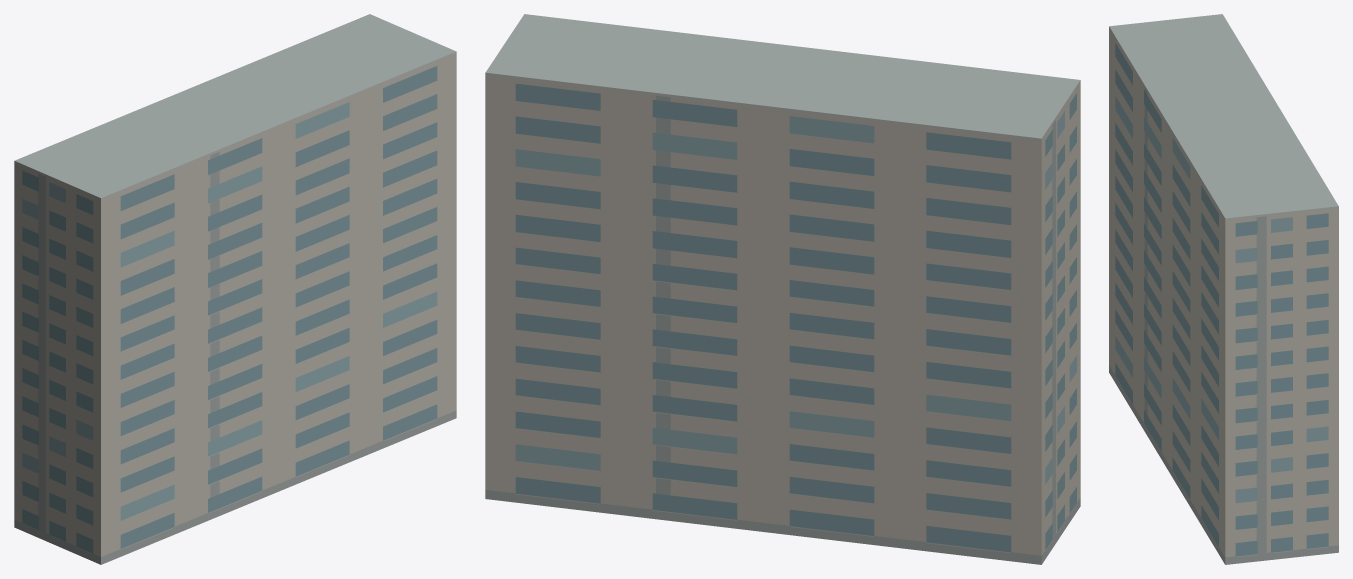
File: residential-5f1e0d6c-2528-493a-9b03-50a418fb24a7.glb
The picture shows the model from 3 angles, left to right: view 1: azimuth 30°, elevation 25°; view 2: azimuth 150°, elevation 25°; view 3: azimuth 270°, elevation 25°; orthographic projection. The views are drawn at different scales.
Visible parts, largest first — view 1: residential-5f1e0d6c-2528-493a-9b03-50a418fb24a7.tmp; view 2: residential-5f1e0d6c-2528-493a-9b03-50a418fb24a7.tmp; view 3: residential-5f1e0d6c-2528-493a-9b03-50a418fb24a7.tmp.
Part boxes in pixels (<box>): residential-5f1e0d6c-2528-493a-9b03-50a418fb24a7.tmp: <box>14,14,456,564</box>; residential-5f1e0d6c-2528-493a-9b03-50a418fb24a7.tmp: <box>485,14,1080,564</box>; residential-5f1e0d6c-2528-493a-9b03-50a418fb24a7.tmp: <box>1109,14,1338,564</box>.
Size of the model in its own units: 46.84 by 37 by 22.24.
